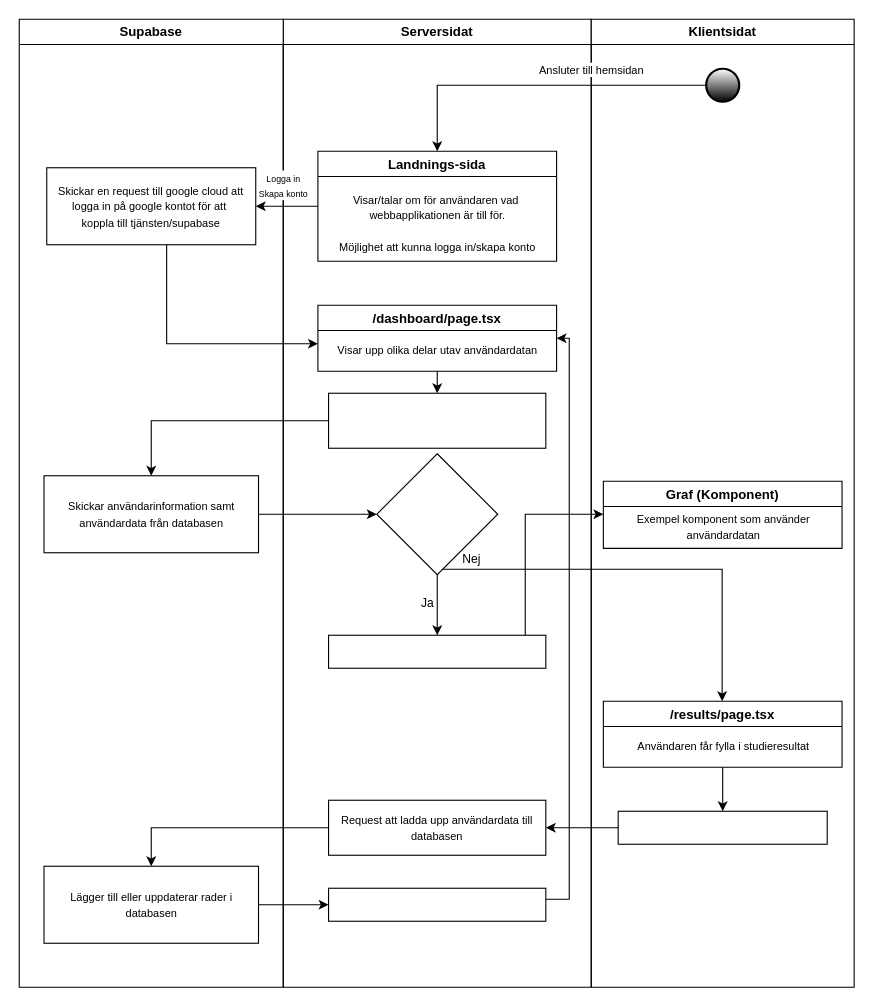
Image size: 873x1007. Some labels were removed from this diagram. Each missing label, with the centre of its shape:
Användardata på databasen?: the point at 437,514
Ifylld information kontrolleras: the point at 722,827
Omdirigerar användaren: the point at 436,904
Request om att få användarinformation samt användardata från databasen: the point at 436,420
Spara data i Cache: the point at 436,651
